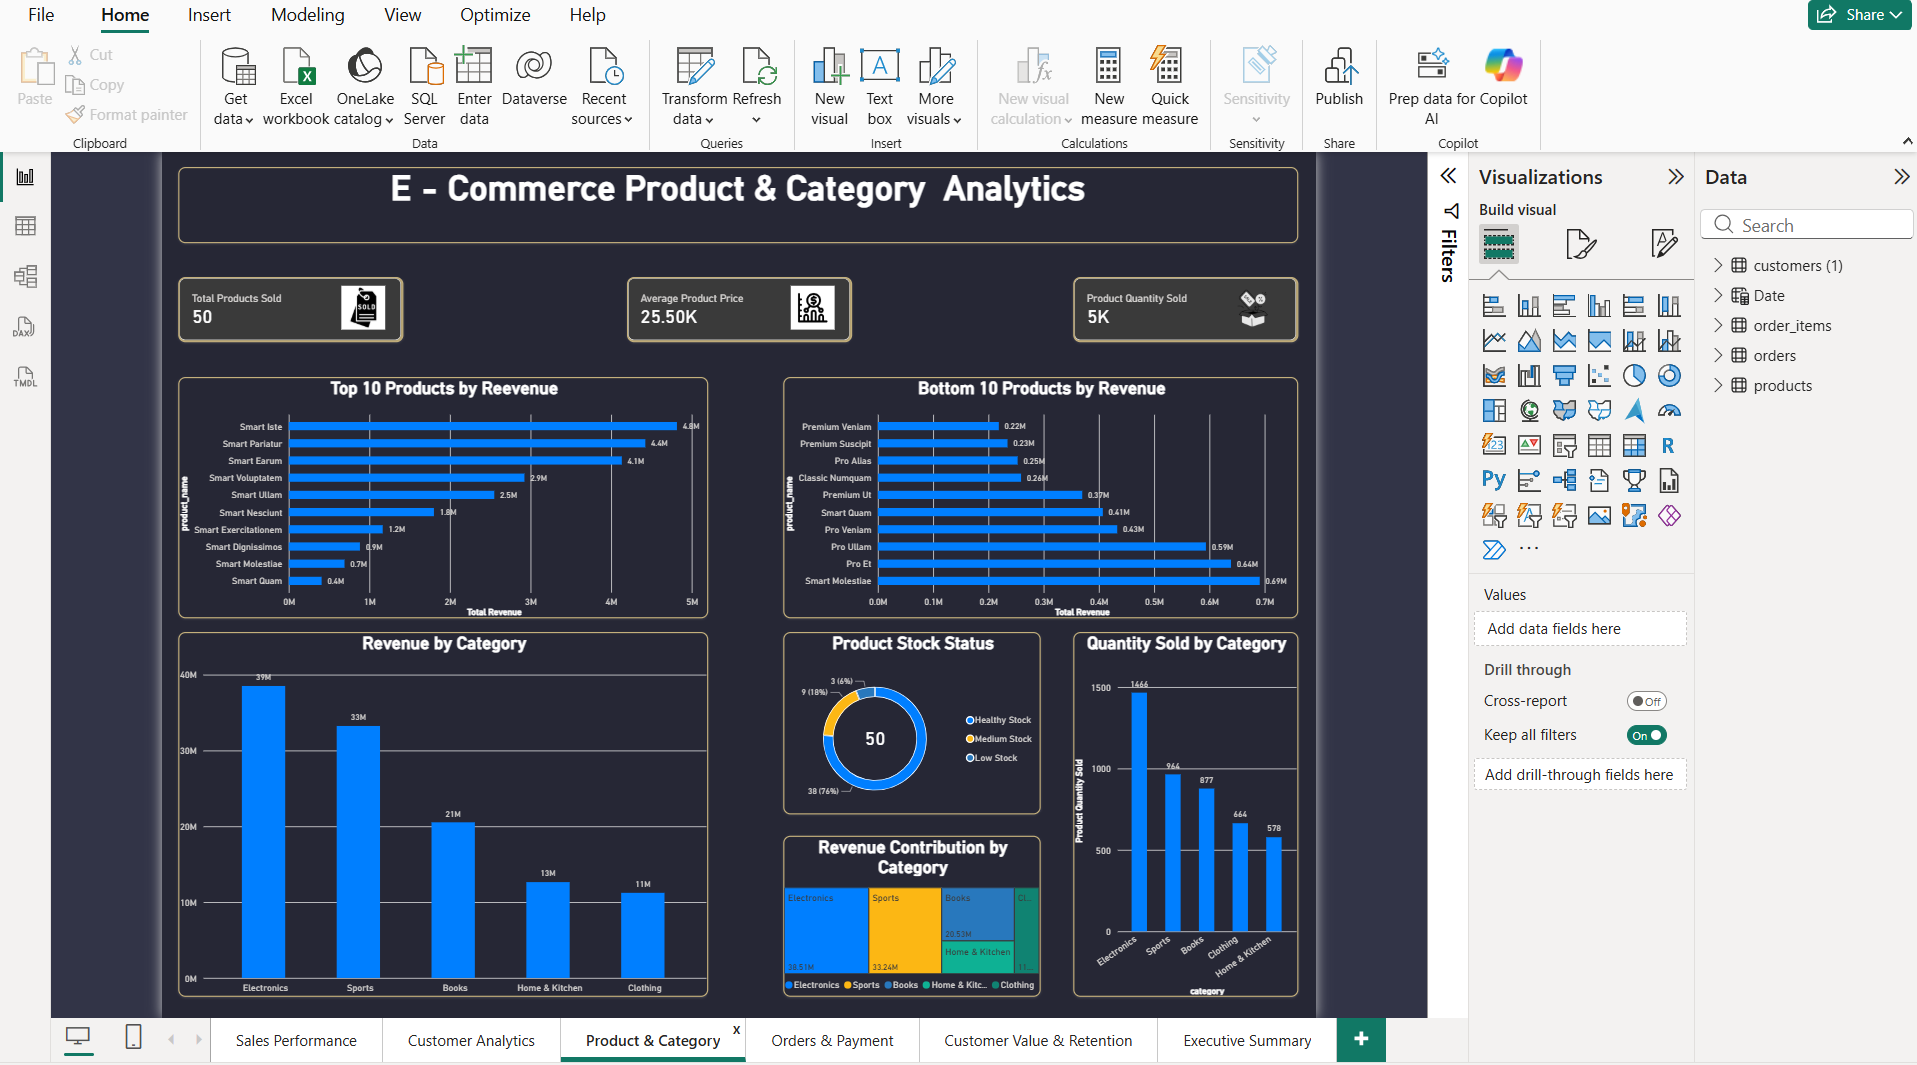

The page's visual inventory and layout, read from the dashboard file:
{"tool":"powerbi","page":{"name":"Product & Category","canvas":[1600,1200],"ordinal":2},"visuals":[{"type":"cardVisual","fields":{"Data":["Date.Total Products Sold"]},"box":[22.5,173.2,311.8,90.1],"z":0},{"type":"textbox","box":[22.5,20.8,1552,105.7],"z":1000},{"type":"cardVisual","fields":{"Data":["Date.Average Product Price"]},"box":[644.3,173.2,311.8,90.1],"z":2000},{"type":"cardVisual","fields":{"Data":["Date.Product Quantity Sold"]},"box":[1262.7,173.2,311.8,90.1],"z":3000},{"type":"clusteredColumnChart","title":"Revenue by Category","fields":{"Category":["products.category"],"Y":["order_items.Total Revenue"]},"box":[22.5,665.1,734.4,505.8],"z":4000},{"type":"clusteredBarChart","title":"Top 10 Products by Reevenue","fields":{"Category":["products.product_name"],"Y":["order_items.Total Revenue"]},"box":[22.5,311.8,734.4,334.3],"z":5000},{"type":"clusteredColumnChart","title":"Quantity Sold by Category","fields":{"Category":["products.category"],"Y":["Date.Product Quantity Sold"]},"box":[1262.7,665.1,311.8,505.8],"z":6000},{"type":"donutChart","title":"Product Stock Status","fields":{"Category":["products.Stock Status"],"Y":["Date.Product Count"]},"box":[860.9,665.1,356.8,252.9],"z":7000},{"type":"clusteredBarChart","title":"Bottom 10 Products by Revenue","fields":{"Category":["products.product_name"],"Y":["order_items.Total Revenue"]},"box":[860.9,311.8,713.6,334.3],"z":8000},{"type":"treemap","title":"Revenue Contribution by Category","fields":{"Group":["products.category"],"Values":["order_items.Total Revenue"]},"box":[860.9,947.5,356.8,223.4],"z":9000},{"type":"image","box":[1465.4,187.1,91.8,58.9],"z":10000},{"type":"image","box":[860.9,185.3,81.4,60.6],"z":11000},{"type":"image","box":[237.3,185.3,83.1,60.6],"z":12000}]}

Visuals, with their boxes on the page's 1600x1200 design canvas (x1, y1, x2, y2). These are canvas units, not pixel positions in the 1917x1065 screenshot, which may show the page scaled, cropped or inside an application window:
cardVisual - Date.Total Products Sold: {"left": 22, "top": 173, "right": 334, "bottom": 263}
textbox: {"left": 22, "top": 21, "right": 1574, "bottom": 126}
cardVisual - Date.Average Product Price: {"left": 644, "top": 173, "right": 956, "bottom": 263}
cardVisual - Date.Product Quantity Sold: {"left": 1263, "top": 173, "right": 1574, "bottom": 263}
"Revenue by Category" clusteredColumnChart: {"left": 22, "top": 665, "right": 757, "bottom": 1171}
"Top 10 Products by Reevenue" clusteredBarChart: {"left": 22, "top": 312, "right": 757, "bottom": 646}
"Quantity Sold by Category" clusteredColumnChart: {"left": 1263, "top": 665, "right": 1574, "bottom": 1171}
"Product Stock Status" donutChart: {"left": 861, "top": 665, "right": 1218, "bottom": 918}
"Bottom 10 Products by Revenue" clusteredBarChart: {"left": 861, "top": 312, "right": 1574, "bottom": 646}
"Revenue Contribution by Category" treemap: {"left": 861, "top": 948, "right": 1218, "bottom": 1171}
image: {"left": 1465, "top": 187, "right": 1557, "bottom": 246}
image: {"left": 861, "top": 185, "right": 942, "bottom": 246}
image: {"left": 237, "top": 185, "right": 320, "bottom": 246}
